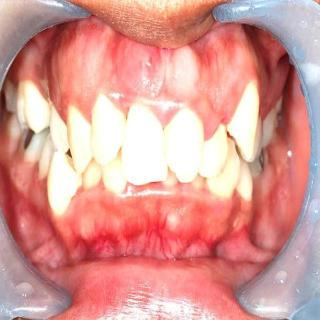Gum Swelling: (49, 78, 226, 139), (66, 179, 233, 218)
maligned: (162, 96, 209, 188), (230, 77, 262, 160), (48, 147, 76, 227), (63, 100, 94, 168), (210, 138, 238, 212), (199, 114, 231, 171), (48, 99, 69, 157)
